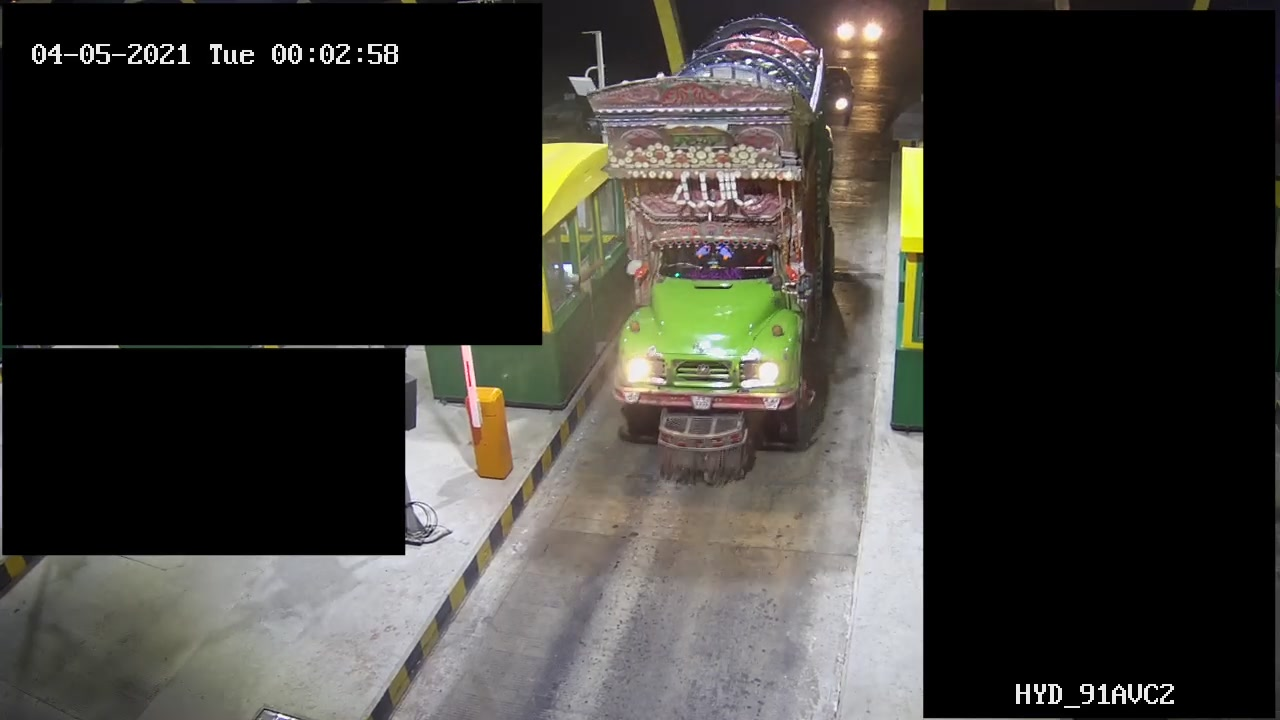F5: (600, 20, 834, 478)
